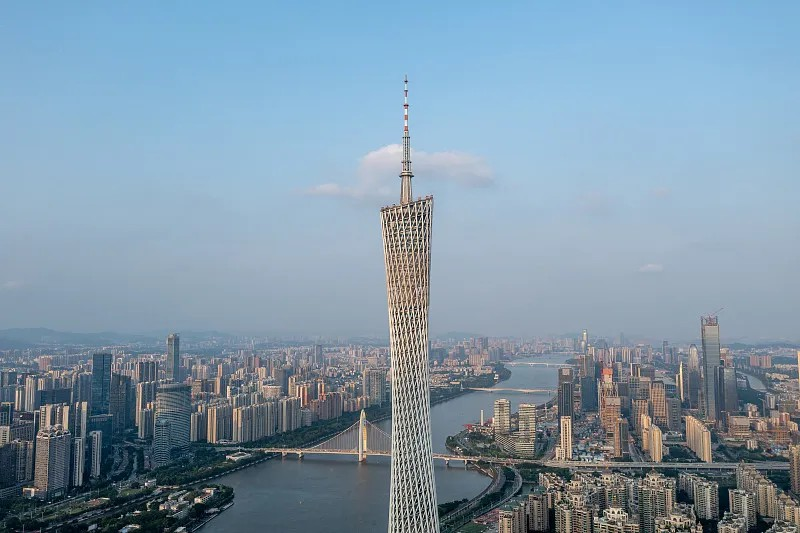Canton: (378, 74, 442, 533)
